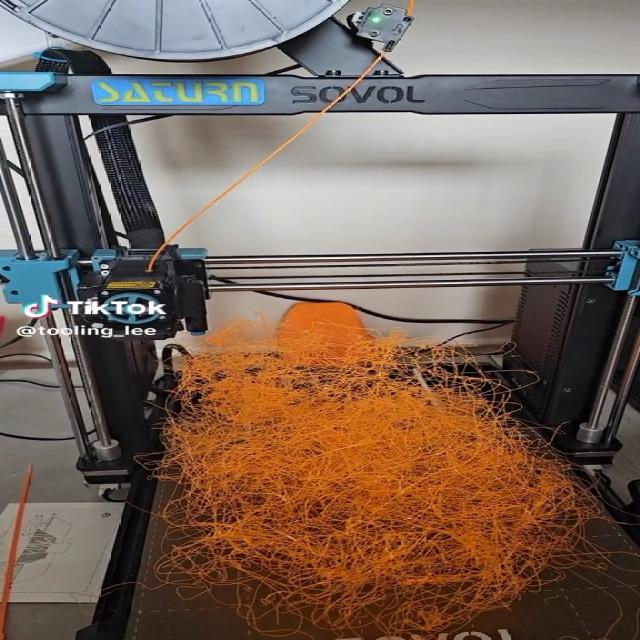spaghetti: (136, 304, 612, 637)
